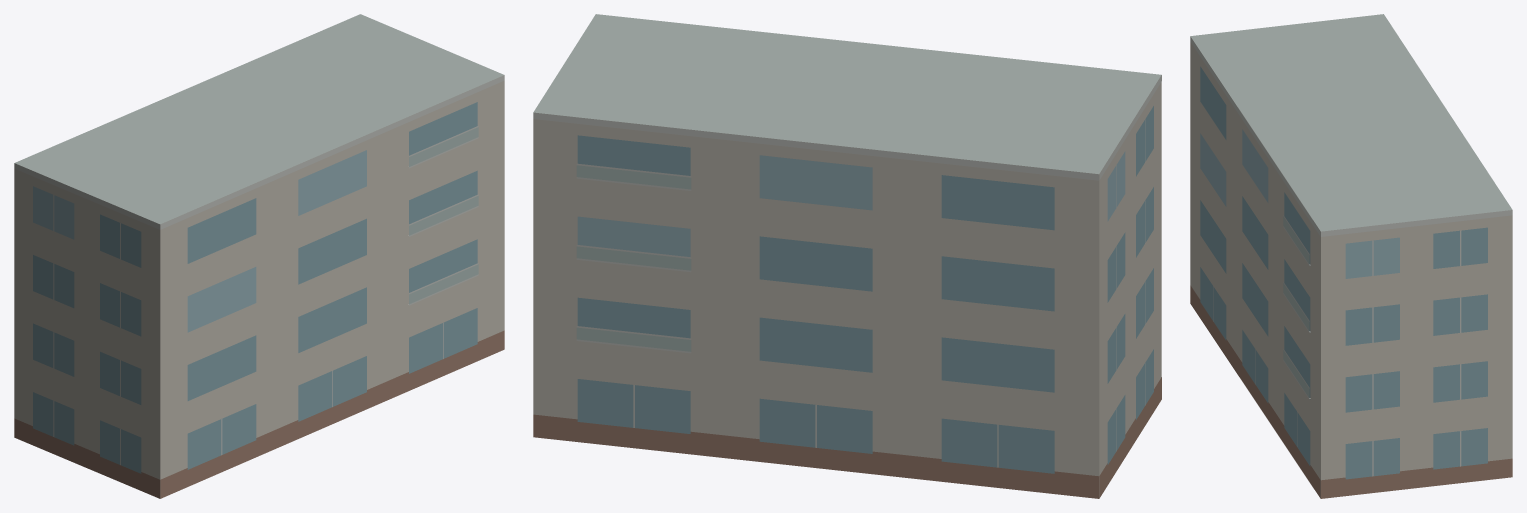
Rendered from survey-upis-32766827.glb.
The picture shows the model from 3 angles, left to right: view 1: azimuth 30°, elevation 25°; view 2: azimuth 150°, elevation 25°; view 3: azimuth 270°, elevation 25°; orthographic projection. The views are drawn at different scales.
Parts seen in each view (by area): view 1: survey-upis-32766827.tmp; view 2: survey-upis-32766827.tmp; view 3: survey-upis-32766827.tmp.
Boxes of the visible parts, left/top/right/bottom form: survey-upis-32766827.tmp: left=14, top=14, right=504, bottom=498; survey-upis-32766827.tmp: left=533, top=14, right=1161, bottom=498; survey-upis-32766827.tmp: left=1190, top=14, right=1512, bottom=498.
Size of the model in its own units: 21.14 by 12.1 by 13.24.
